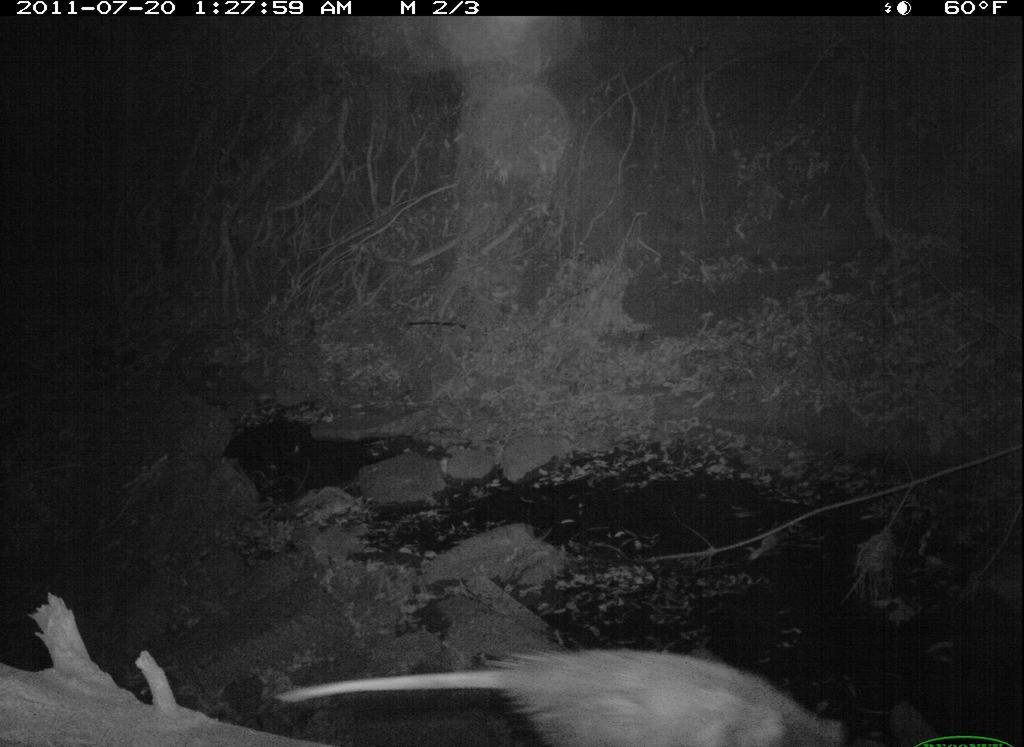opossum: (262, 619, 865, 747)
